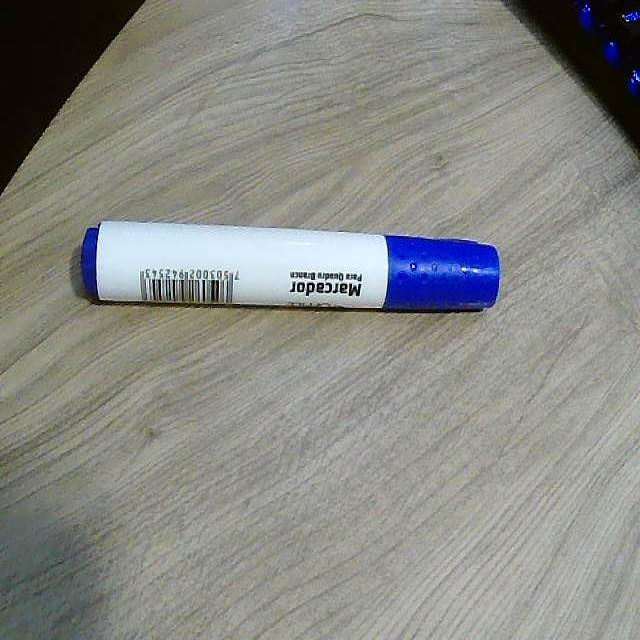caneta: (71, 188, 518, 330)
